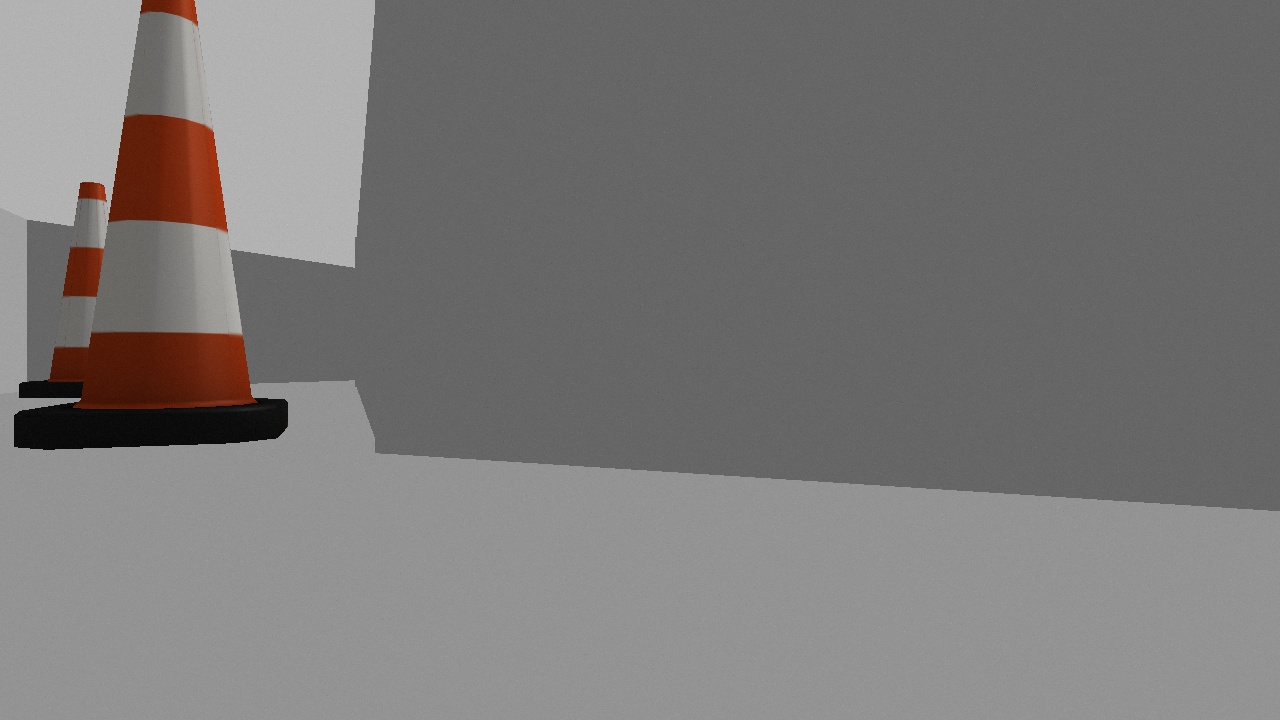barricade: (13, 1, 289, 450), (18, 176, 134, 398)
